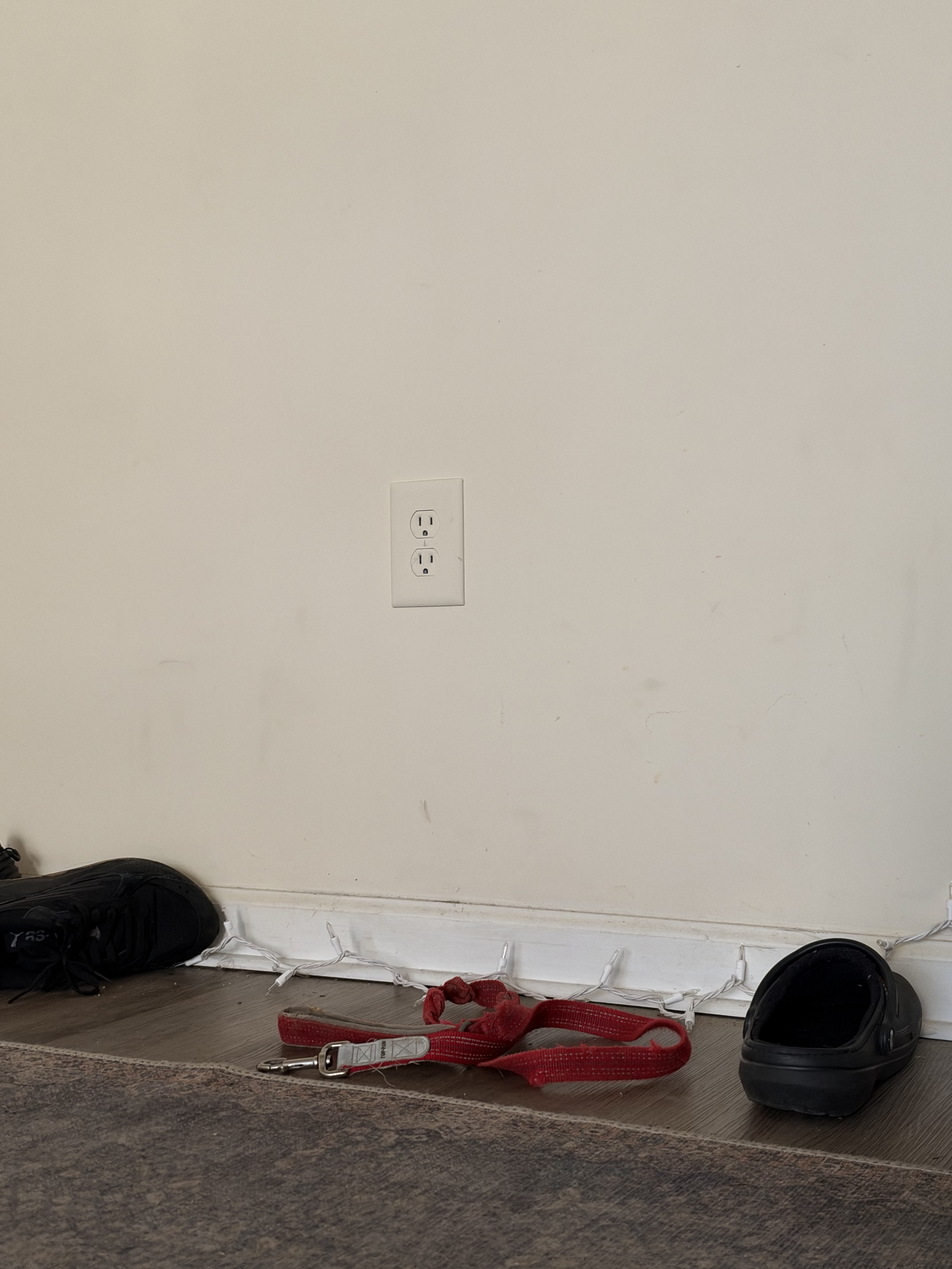outlet: (389, 480, 466, 602)
